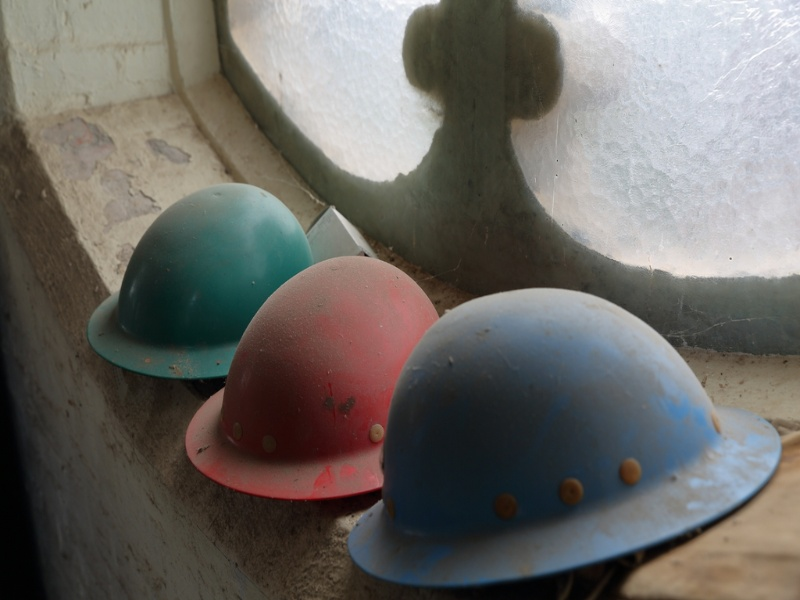helmet: (351, 287, 778, 581), (186, 257, 434, 495), (85, 184, 317, 375)
